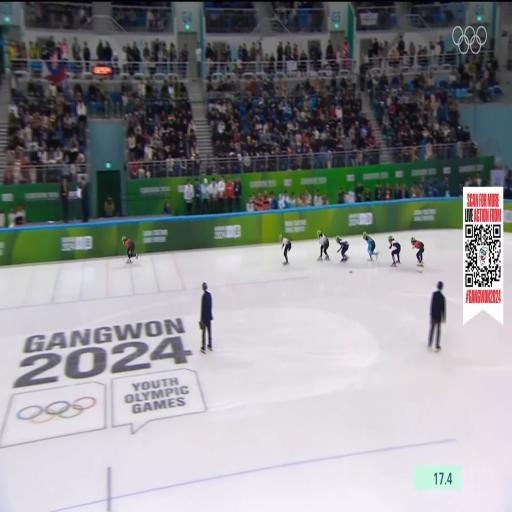Skater: (363, 232, 378, 261), (122, 237, 138, 263), (411, 237, 424, 266), (279, 235, 291, 265), (317, 230, 329, 260), (336, 236, 349, 262), (389, 236, 400, 266)
